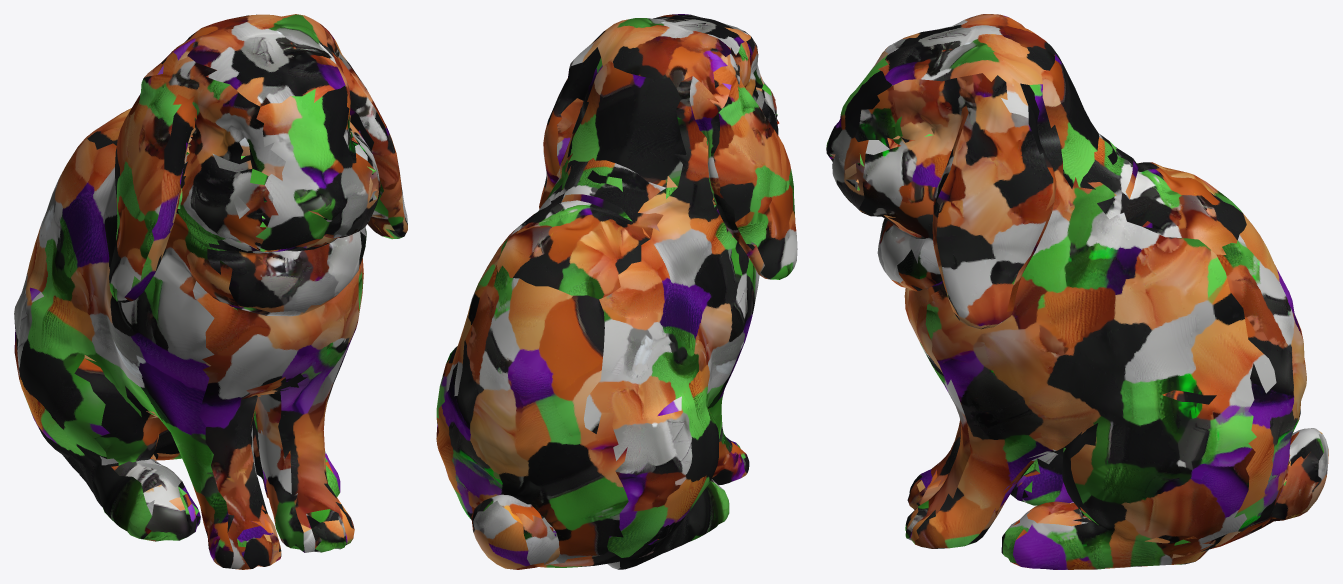
File: BunnyNoRig.fbx
3 views of the same model, side by side, from view 1: azimuth 30°, elevation 25°; view 2: azimuth 150°, elevation 25°; view 3: azimuth 270°, elevation 25° (orthographic). The views are drawn at different scales.
Visible parts, largest first — view 1: char1; view 2: char1; view 3: char1.
Boxes of the visible parts, x1,y1,x2,y2 form: char1: (14,14,407,569); char1: (436,14,797,569); char1: (826,14,1328,569).
Size of the model in its own units: 19.05 by 32 by 29.69.
